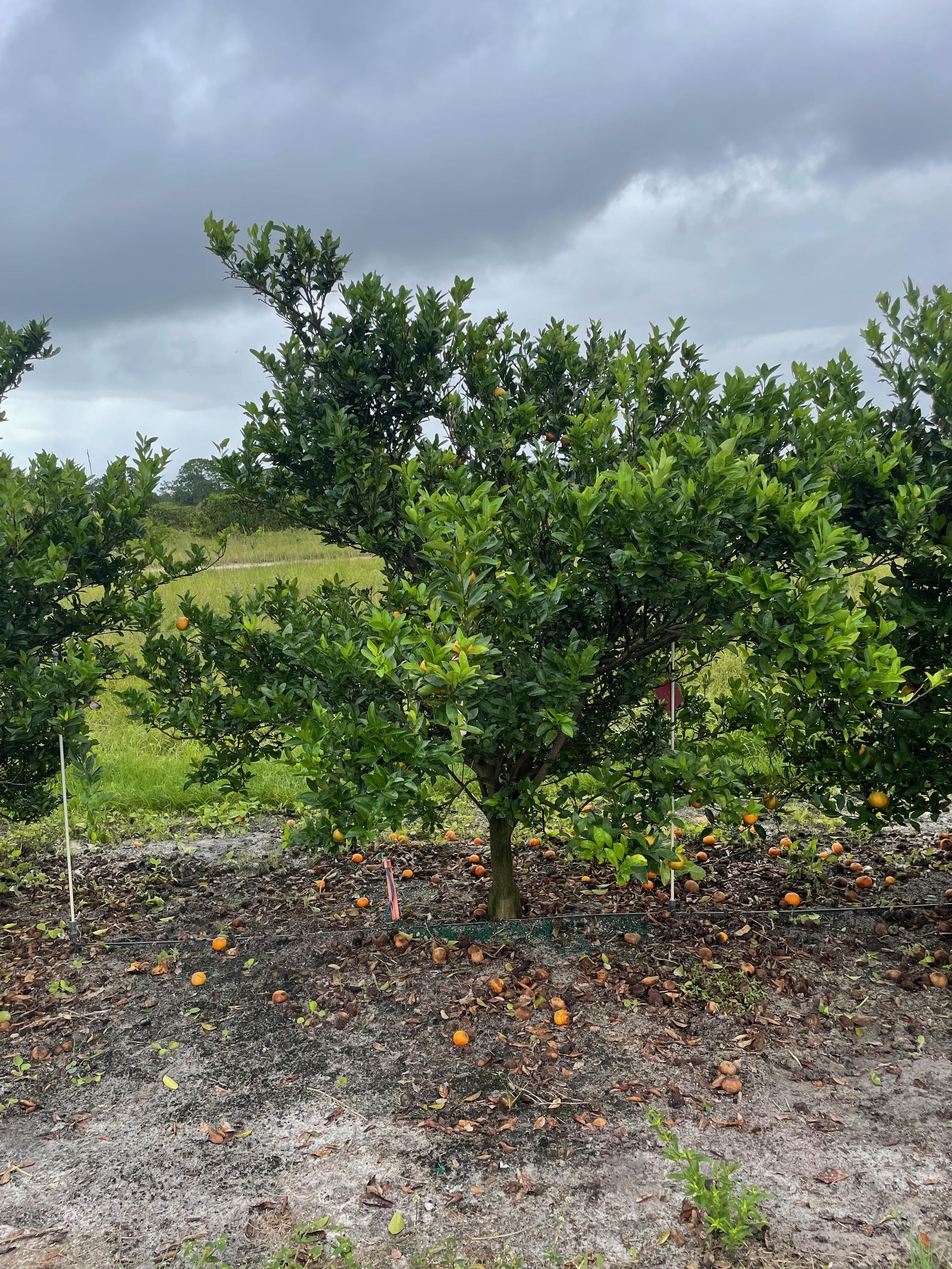fruit_on_ground: (866, 788, 891, 810), (451, 637, 476, 659), (416, 655, 439, 678), (390, 603, 414, 624), (898, 681, 919, 701), (740, 808, 760, 827), (667, 853, 686, 871), (640, 832, 658, 850), (763, 793, 781, 810), (174, 616, 191, 632), (689, 794, 705, 810), (331, 827, 347, 842), (492, 386, 507, 400), (544, 429, 558, 443), (559, 433, 573, 447)
fruit_on_tree: (928, 968, 950, 988), (721, 1076, 744, 1094), (392, 931, 413, 950), (552, 1008, 572, 1027), (717, 1057, 738, 1075), (189, 968, 208, 987), (452, 1028, 471, 1047), (429, 945, 449, 963), (30, 1043, 49, 1061), (488, 976, 506, 994), (371, 930, 390, 947), (932, 946, 951, 963), (270, 988, 289, 1005), (782, 890, 802, 906), (467, 946, 485, 963), (211, 934, 229, 951), (645, 989, 664, 1005), (549, 994, 568, 1010), (682, 877, 701, 893), (884, 965, 902, 980), (534, 965, 550, 981), (623, 930, 641, 944), (844, 888, 861, 902), (697, 946, 714, 960), (856, 874, 873, 888), (704, 999, 719, 1014), (229, 916, 245, 930), (847, 860, 863, 874), (641, 974, 658, 987), (715, 930, 730, 944), (701, 832, 716, 846), (356, 895, 371, 909), (1, 1017, 14, 1033), (779, 836, 793, 850), (641, 877, 655, 891), (473, 863, 487, 877), (939, 837, 952, 852), (833, 874, 849, 886), (662, 978, 676, 991), (696, 849, 709, 863), (830, 840, 844, 853), (816, 848, 831, 860), (644, 869, 657, 882), (284, 815, 298, 827), (579, 873, 593, 885), (714, 890, 728, 902), (528, 836, 542, 848), (542, 847, 556, 859), (401, 867, 415, 879), (767, 845, 781, 857), (883, 874, 896, 886), (351, 851, 364, 863), (315, 877, 327, 890), (444, 828, 458, 839), (315, 863, 328, 874), (472, 837, 487, 846), (476, 900, 488, 911), (467, 853, 479, 864), (735, 823, 748, 833), (672, 825, 683, 836), (397, 833, 409, 843), (429, 874, 441, 884), (387, 832, 398, 839)
